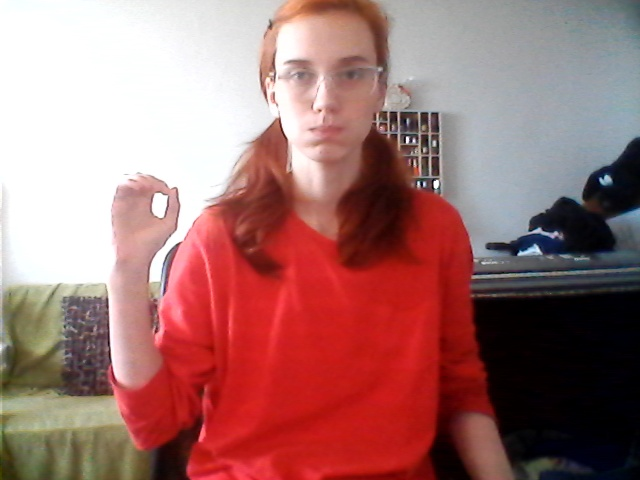o: (101, 166, 188, 270)
